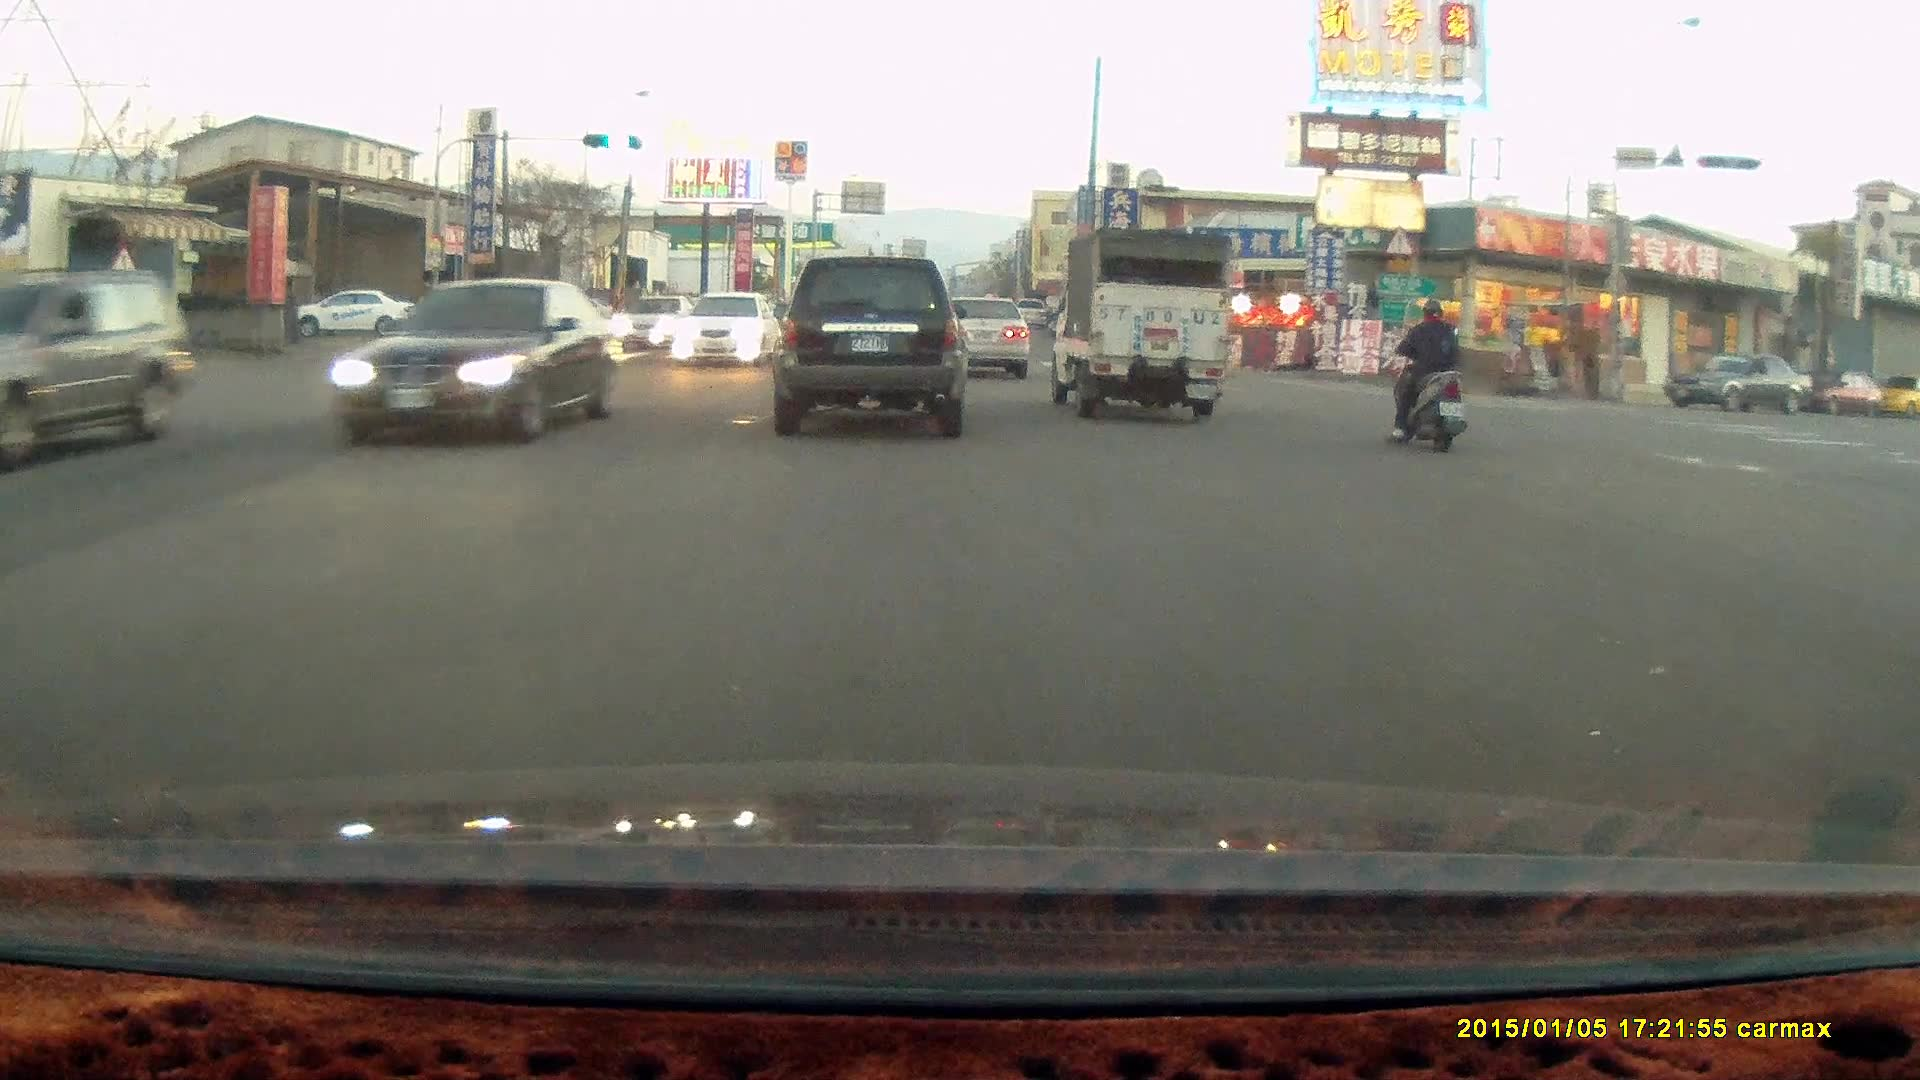rider: (1384, 294, 1469, 452)
vehicle: (325, 279, 625, 449), (1, 271, 204, 472), (768, 255, 969, 440), (1041, 226, 1229, 422), (418, 284, 556, 367), (1662, 352, 1816, 416), (926, 290, 1031, 378), (671, 289, 780, 370), (937, 297, 1032, 383), (299, 287, 420, 338), (1795, 370, 1885, 419), (1869, 377, 1920, 420)
